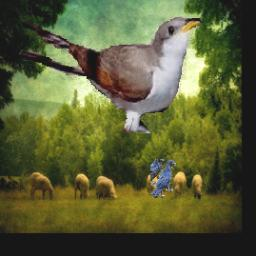Crow: (151, 160, 177, 199)
Cuckoo: (23, 17, 202, 134)
